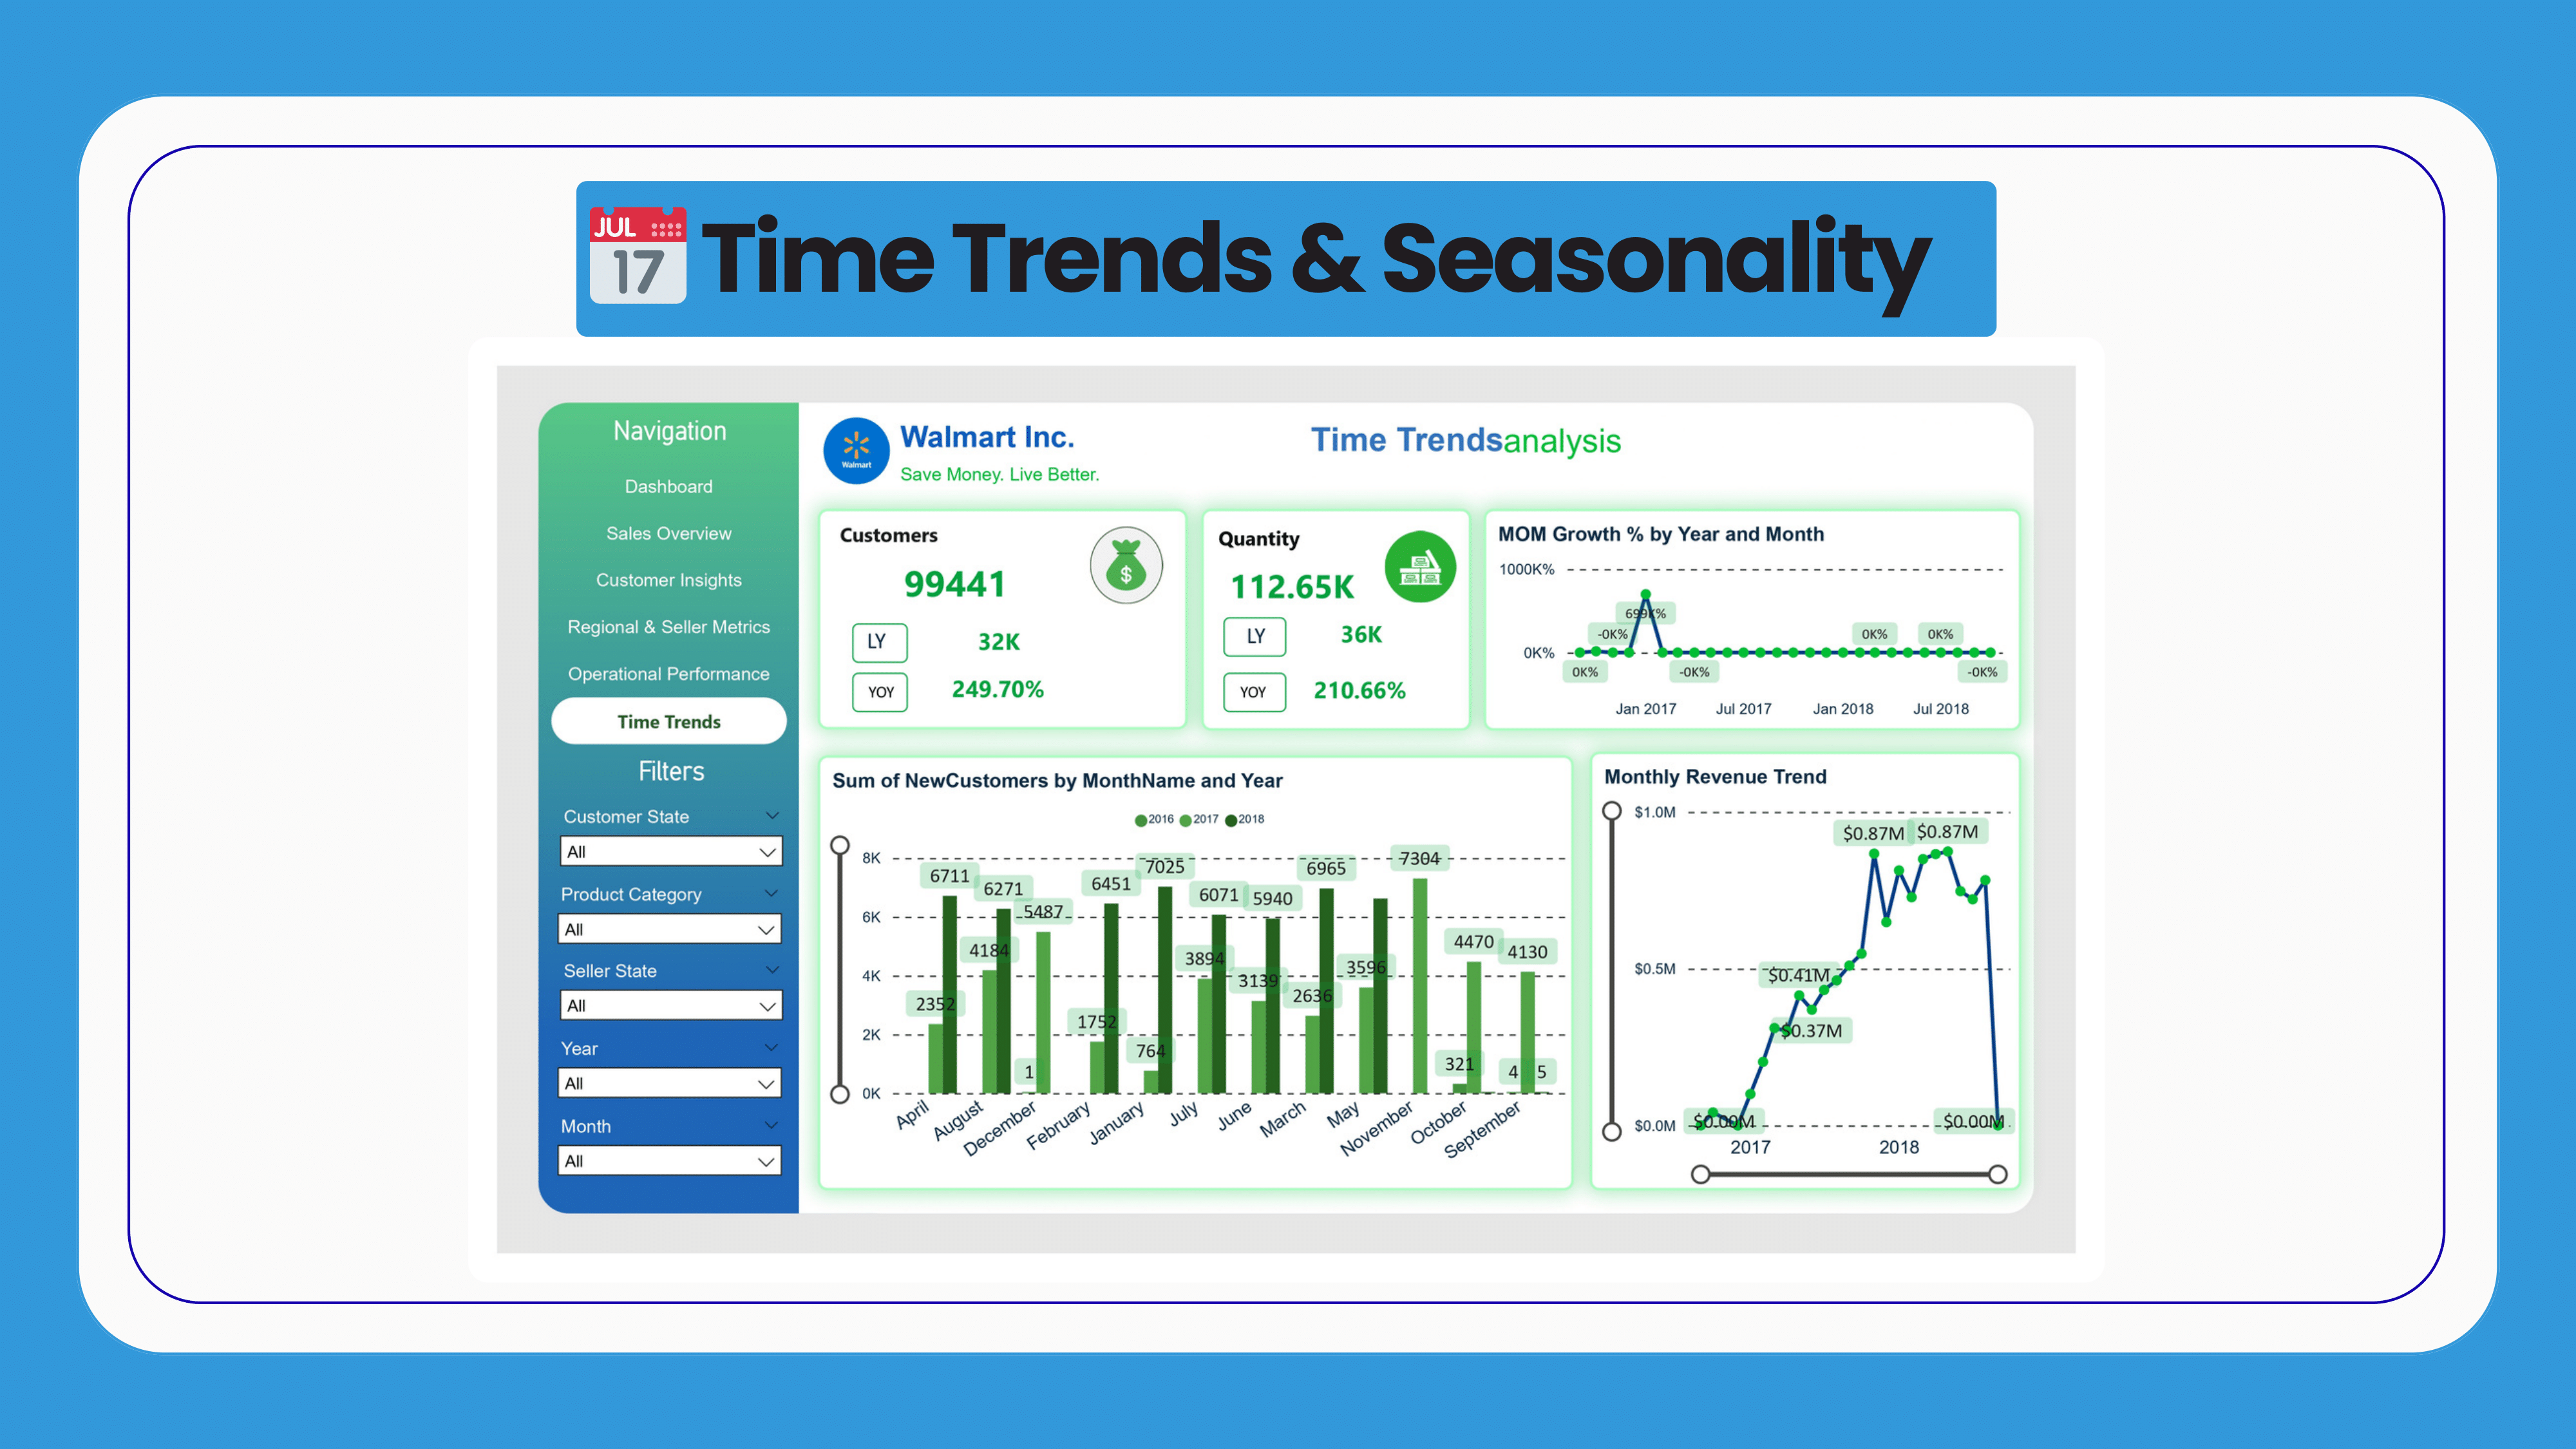

What the dashboard file says about the page in this screenshot:
{"tool":"powerbi","page":{"name":"Time Trends","canvas":[1280,720],"ordinal":5},"visuals":[{"type":"image","box":[0,0,1280.2,719.8],"z":0},{"type":"image","box":[255,38.7,71.6,63.8],"z":0,"group":"g1"},{"type":"shape","box":[589,204,51.3,30.8],"z":0,"group":"g4"},{"type":"shape","box":[288.4,209.5,45,30.9],"z":0,"group":"g3"},{"type":"shape","box":[288,249,44.6,30.9],"z":0,"group":"g2"},{"type":"shape","box":[588.8,249.4,51.3,31.9],"z":0,"group":"g5"},{"type":"textbox","box":[326.6,44,198,35.9],"z":1000,"group":"g1"},{"type":"textbox","box":[602.8,207,25.1,26.2],"z":1000,"group":"g4"},{"type":"textbox","box":[300.8,211.7,25.7,26.3],"z":1000,"group":"g3"},{"type":"textbox","box":[292.6,256,37,19.5],"z":1000,"group":"g2"},{"type":"textbox","box":[589.2,256.8,47.3,20.3],"z":1000,"group":"g5"},{"type":"textbox","box":[326.6,79.9,227.9,22.6],"z":2000,"group":"g1"},{"type":"shape","box":[290,255,45,23],"z":2000},{"type":"textbox","box":[295,256.7,35,19.6],"z":3000},{"type":"textbox","box":[60.4,39.9,160.6,30.8],"z":4000},{"type":"pageNavigator","box":[44.4,74.3,191.3,239.5],"z":5000},{"type":"slicer","fields":{"Values":["customers.customer_state"]},"box":[45.6,357.7,191.3,62.8],"z":6000},{"type":"textbox","box":[61,315.9,160.6,30.8],"z":7000},{"type":"slicer","fields":{"Values":["products.product_category"]},"box":[44.4,420.5,191.3,62.9],"z":8000},{"type":"slicer","fields":{"Values":["sellers.seller_state"]},"box":[45.6,483.4,191.3,62.9],"z":9000},{"type":"slicer","fields":{"Values":["orders.order_purchase_timestamp.Variation.Date Hierarchy.Year"]},"box":[44.4,546.3,191.3,62.9],"z":10000},{"type":"slicer","fields":{"Values":["orders.order_purchase_timestamp.Variation.Date Hierarchy.Month"]},"box":[44.4,609.1,191.3,62.9],"z":11000},{"type":"group","id":"g1","title":"Group 1","box":[255,38.7,299.5,63.8],"z":12000},{"type":"card","title":"Sales","fields":{"Values":["_Measures.Total Sales Revenue"]},"box":[289.3,145.8,175.4,47.8],"z":14000},{"type":"shape","box":[259.8,115.6,299.9,179.7],"z":15000},{"type":"textbox","box":[278.1,126.2,95,31.2],"z":16000},{"type":"card","fields":{"Values":["_Measures.Number of customers"]},"box":[290.4,158.3,164,36.4],"z":17000},{"type":"image","box":[475,130.5,71,63],"z":18000},{"type":"card","fields":{"Values":["_Measures.LastYearCustomers"]},"box":[348,210.6,116.8,27.5],"z":19000},{"type":"card","fields":{"Values":["_Measures.YoY Customers %"]},"box":[346.8,246.1,117.9,34.3],"z":20000},{"type":"group","id":"g2","title":"Group 3","box":[288,249,44.6,30.9],"z":21000},{"type":"group","id":"g3","title":"Group 3","box":[288.4,209.5,45.8,30.9],"z":22000},{"type":"shape","box":[570.6,116.2,219,179.9],"z":23000},{"type":"image","box":[719.8,131,58.1,63.8],"z":25000},{"type":"textbox","box":[585,129,75.2,30.8],"z":26000},{"type":"card","fields":{"Values":["_Measures.Total qty"]},"box":[585.7,160.7,117.6,36.1],"z":27000},{"type":"group","id":"g4","title":"Group 3","box":[589,204,51.3,30.8],"z":28000},{"type":"card","fields":{"Values":["_Measures.LastYearQty"]},"box":[644.2,203.5,112.8,30.2],"z":29000},{"type":"card","fields":{"Values":["_Measures.YoY Qty %"]},"box":[640.1,247.1,118.4,34.2],"z":30000},{"type":"group","id":"g5","title":"Group 3","box":[588.8,249.4,51.3,31.9],"z":31000},{"type":"textbox","box":[660.4,45,164.2,46.2],"z":39000},{"type":"textbox","box":[816,46,188.5,36.5],"z":40000},{"type":"lineChart","title":"Monthly Revenue Trend","fields":{"Category":["calendar.Date.Variation.Date Hierarchy.Year","calendar.Date.Variation.Date Hierarchy.Month"],"Y":["_Measures.Total Sales Revenue"]},"box":[885.8,313.4,350.1,356],"z":41000},{"type":"lineChart","fields":{"Category":["calendar.Date.Variation.Date Hierarchy.Year","calendar.Date.Variation.Date Hierarchy.Month"],"Y":["_Measures.MOM Growth %"]},"box":[799.5,116.2,436.2,180],"z":42000},{"type":"clusteredColumnChart","fields":{"Category":["NewCustomersByMonth.MonthName"],"Y":["Sum(NewCustomersByMonth.NewCustomers)"],"Series":["NewCustomersByMonth.Year"]},"box":[260.2,315.8,612.6,353.6],"z":42001}]}

Visuals, with their boxes in screenshot pixels (x1, y1, x2, y2), scaled from the page's 1280x720 canvas onto the 2576x1449 screenshot:
image: 0:0:2575:1448
image: 513:78:658:206
shape: 1186:411:1289:473
shape: 580:422:671:484
shape: 580:501:669:563
shape: 1185:502:1288:566
textbox: 658:89:1056:161
textbox: 1213:417:1264:469
textbox: 605:426:657:479
textbox: 589:515:663:554
textbox: 1186:516:1281:558
textbox: 658:161:1116:206
shape: 583:513:674:560
textbox: 594:516:664:556
textbox: 122:80:445:142
pageNavigator: 90:149:475:632
slicer - customers.customer_state: 91:720:477:846
textbox: 123:636:446:697
slicer - products.product_category: 90:846:475:973
slicer - sellers.seller_state: 91:973:477:1099
slicer - orders.order_purchase_timestamp.Variation.Date Hierarchy.Year: 90:1099:475:1226
slicer - orders.order_purchase_timestamp.Variation.Date Hierarchy.Month: 90:1226:475:1352
"Group 1" group: 513:78:1116:206
"Sales" card: 582:294:935:390
shape: 523:232:1126:594
textbox: 560:254:751:317
card - _Measures.Number of customers: 584:319:914:392
image: 956:263:1099:390
card - _Measures.LastYearCustomers: 701:424:935:479
card - _Measures.YoY Customers %: 698:495:935:564
"Group 3" group: 580:501:669:563
"Group 3" group: 580:422:672:484
shape: 1148:234:1589:596
image: 1448:263:1566:392
textbox: 1177:260:1329:321
card - _Measures.Total qty: 1179:323:1416:396
"Group 3" group: 1186:411:1289:473
card - _Measures.LastYearQty: 1296:410:1524:470
card - _Measures.YoY Qty %: 1288:497:1526:566
"Group 3" group: 1185:502:1288:566
textbox: 1329:91:1660:184
textbox: 1642:93:2022:166
"Monthly Revenue Trend" lineChart: 1783:630:2487:1347
lineChart - calendar.Date.Variation.Date Hierarchy.Year x calendar.Date.Variation.Date Hierarchy.Month: 1609:234:2487:596
clusteredColumnChart - NewCustomersByMonth.MonthName x Sum(NewCustomersByMonth.NewCustomers): 524:636:1757:1347
